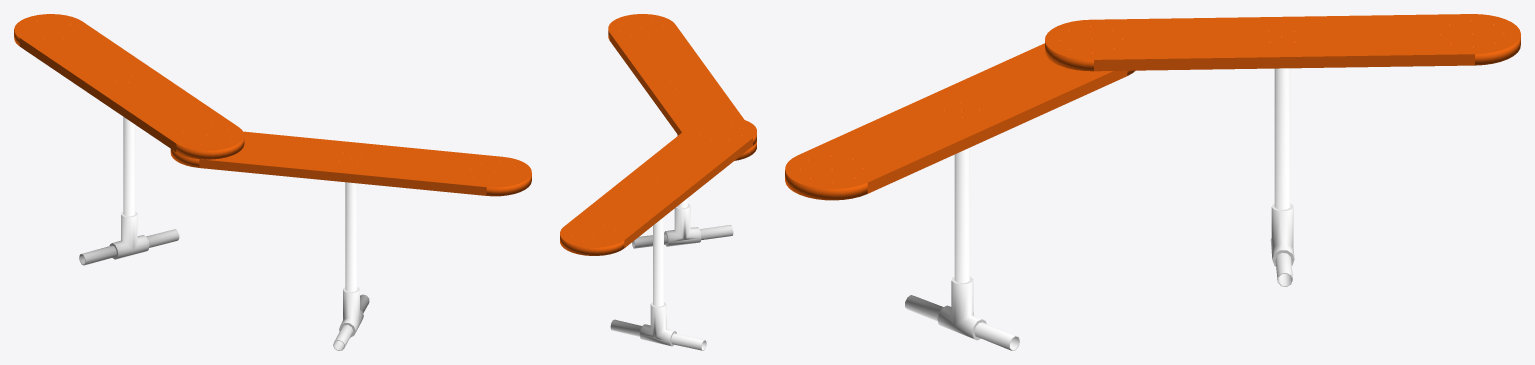
Rendered from pathmarker2.dae.
3 renders of one model, left to right at view 1: azimuth 30°, elevation 25°; view 2: azimuth 150°, elevation 25°; view 3: azimuth 270°, elevation 25°, orthographic. The views are drawn at different scales.
Visible parts, largest first — view 1: path_marker.002; view 2: path_marker.002; view 3: path_marker.002.
Part boxes in pixels (bbox=[...]): path_marker.002: bbox=[14, 14, 531, 350]; path_marker.002: bbox=[560, 14, 756, 350]; path_marker.002: bbox=[785, 14, 1520, 350].
Size of the model in its own units: 0.6477 by 1.18 by 0.4125.
Materials: 2 (1 with a texture image).
